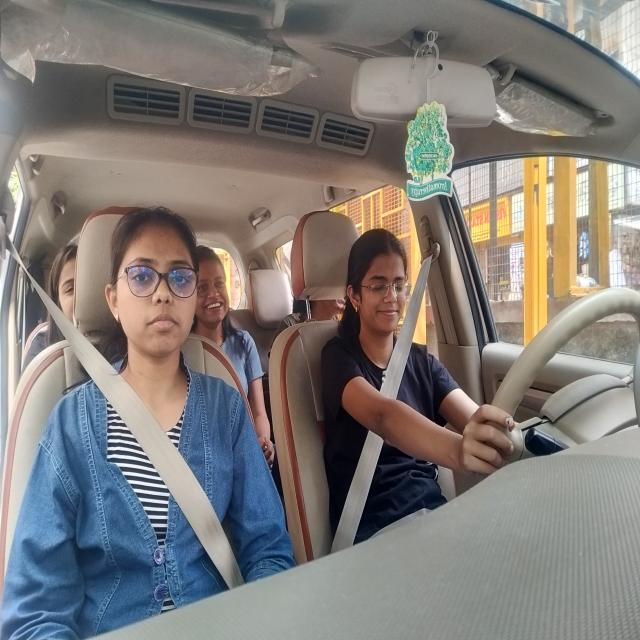drowsy: (342, 228, 417, 341)
person: (104, 203, 202, 371), (198, 241, 235, 330), (46, 243, 80, 330)
